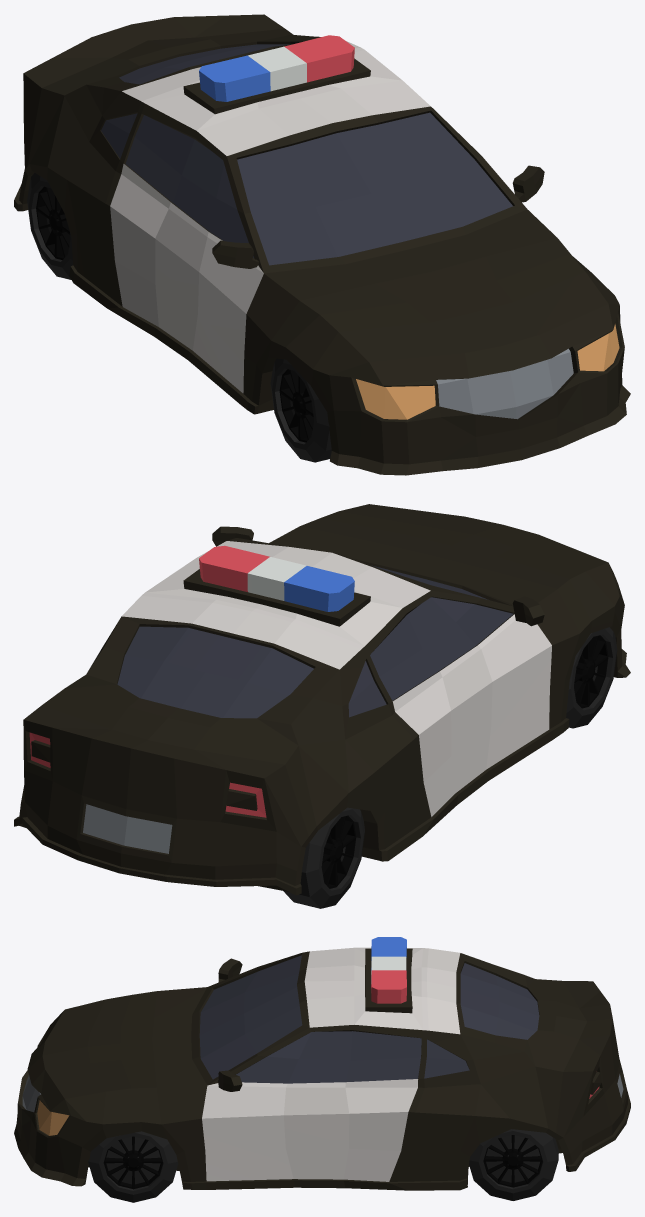
Rendered from Cop.fbx.
3 views of the same model, one above another, from view 1: azimuth 30°, elevation 25°; view 2: azimuth 150°, elevation 25°; view 3: azimuth 270°, elevation 25° (orthographic). The views are drawn at different scales.
Parts seen in each view (by area): view 1: Cop, Cop_FrontRightWheel, Cop_BackWheels; view 2: Cop, Cop_BackWheels, Cop_FrontRightWheel; view 3: Cop, Cop_BackWheels, Cop_FrontLeftWheel.
Part boxes in pixels (x1=…): Cop: x1=14, y1=14, x2=630, y2=475; Cop_FrontRightWheel: x1=270, y1=358, x2=331, y2=462; Cop_BackWheels: x1=27, y1=173, x2=73, y2=279; Cop: x1=14, y1=504, x2=630, y2=895; Cop_BackWheels: x1=283, y1=807, x2=364, y2=908; Cop_FrontRightWheel: x1=566, y1=627, x2=617, y2=728; Cop: x1=14, y1=937, x2=630, y2=1190; Cop_BackWheels: x1=469, y1=1129, x2=558, y2=1200; Cop_FrontLeftWheel: x1=88, y1=1131, x2=178, y2=1202.
Bounding box in the file's own units: 178 × 124 × 373.
